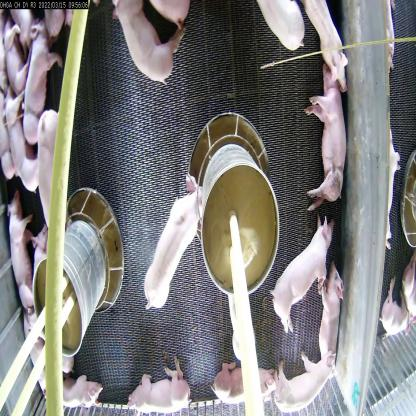Pig: (141, 182, 216, 307), (261, 219, 329, 329), (29, 107, 78, 234), (308, 82, 350, 222), (19, 21, 64, 146), (114, 0, 173, 95), (0, 98, 51, 197), (300, 0, 354, 90), (2, 194, 35, 314), (124, 356, 190, 416), (204, 356, 271, 410), (269, 356, 330, 410), (320, 265, 346, 367)
